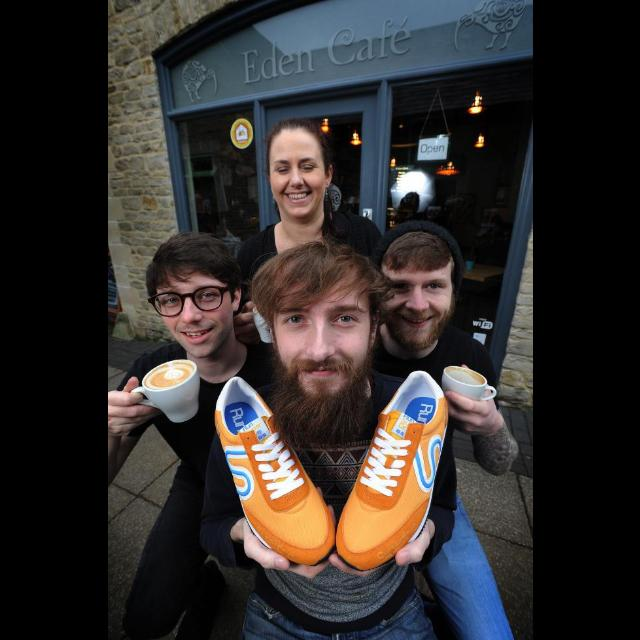head: (264, 247, 382, 406), (154, 237, 242, 359), (376, 232, 456, 351), (264, 118, 334, 220)
